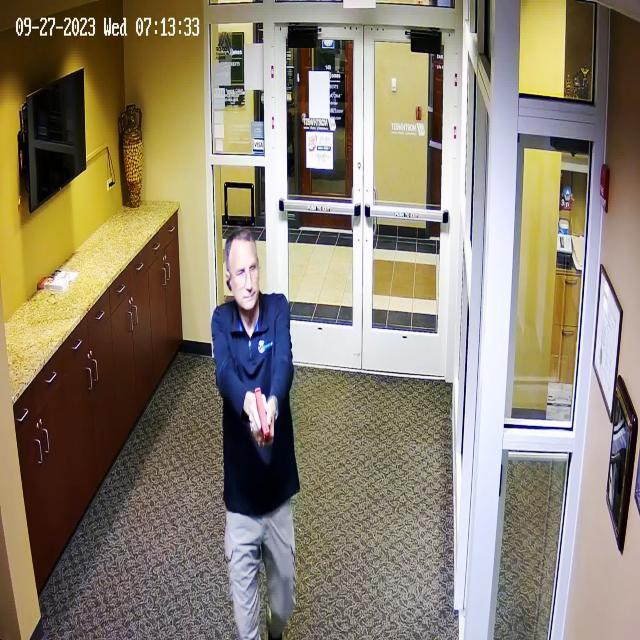Gun: (246, 379, 292, 449)
